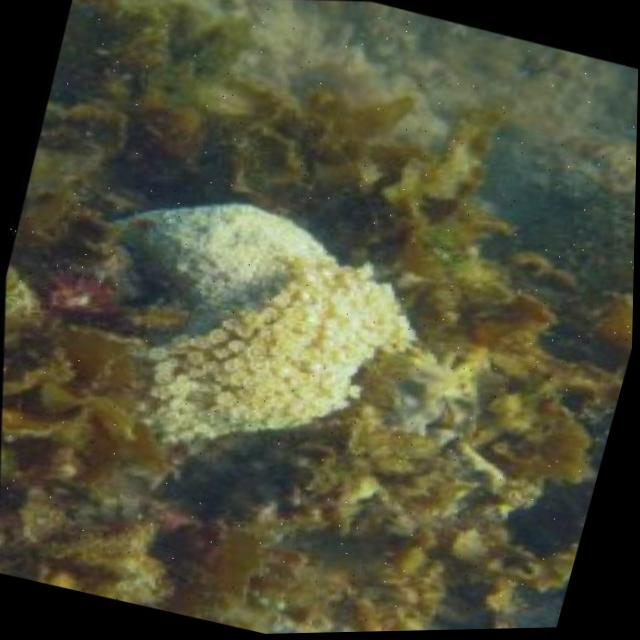Bleached Coral: (43, 123, 519, 537)
